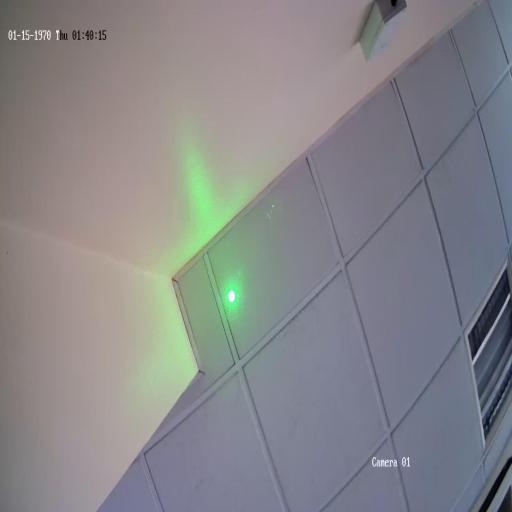laser: (218, 270, 244, 321)
